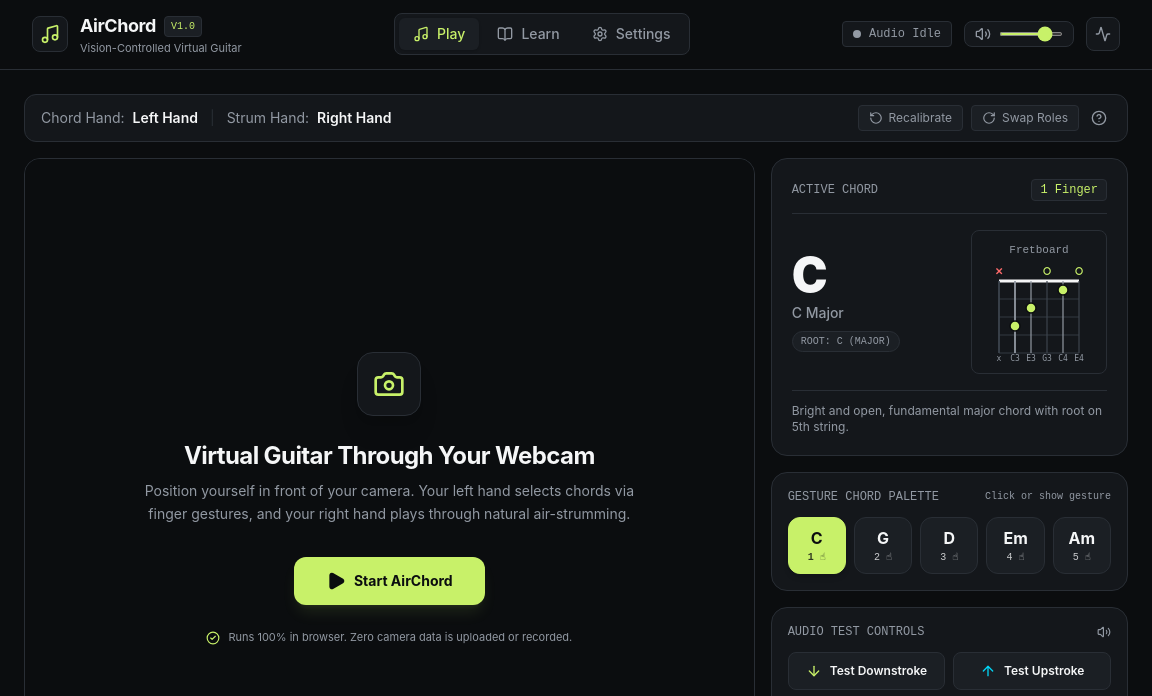
Test: AirChord UI Component Suite › renders tracking sensitivity slider in Settings and updates value
Note: Navigate to Settings
Click the button "Settings" at [631, 34], box top-left (578, 18), bottom-right (684, 50)
(page scrolled)
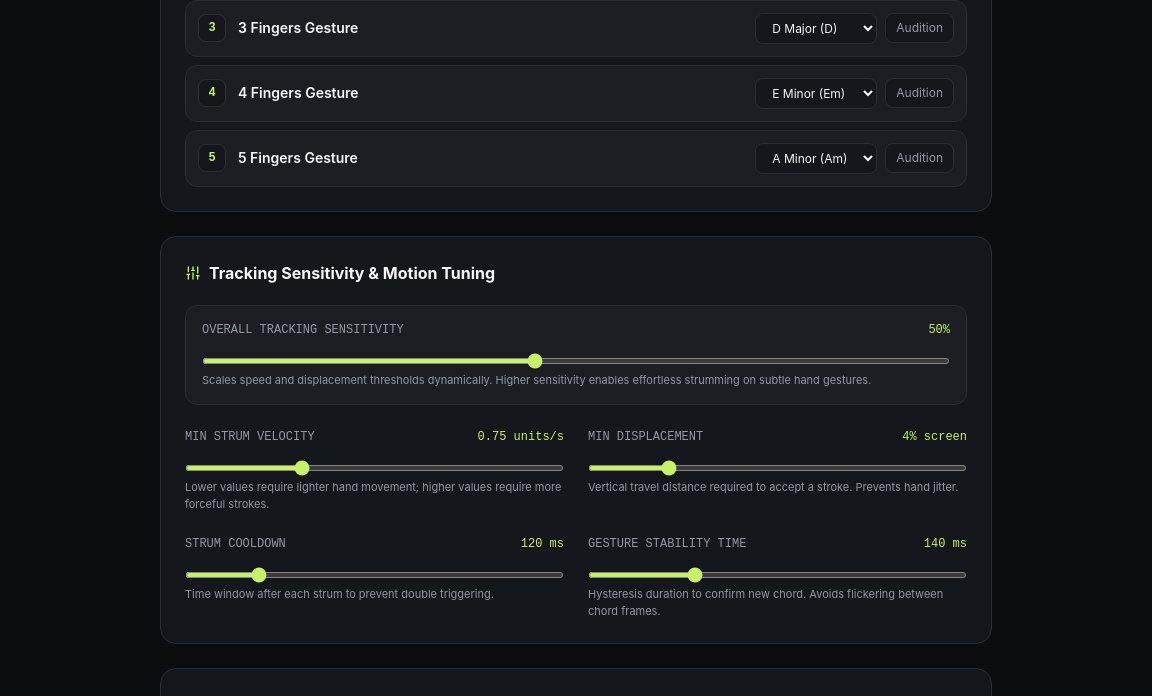
Expected: the slider named "Overall tracking sensitivity" is shown
Set the slider named "Overall tracking sensitivity" to "0.75" at [739, 360], box top-left (202, 358), bottom-right (950, 364)
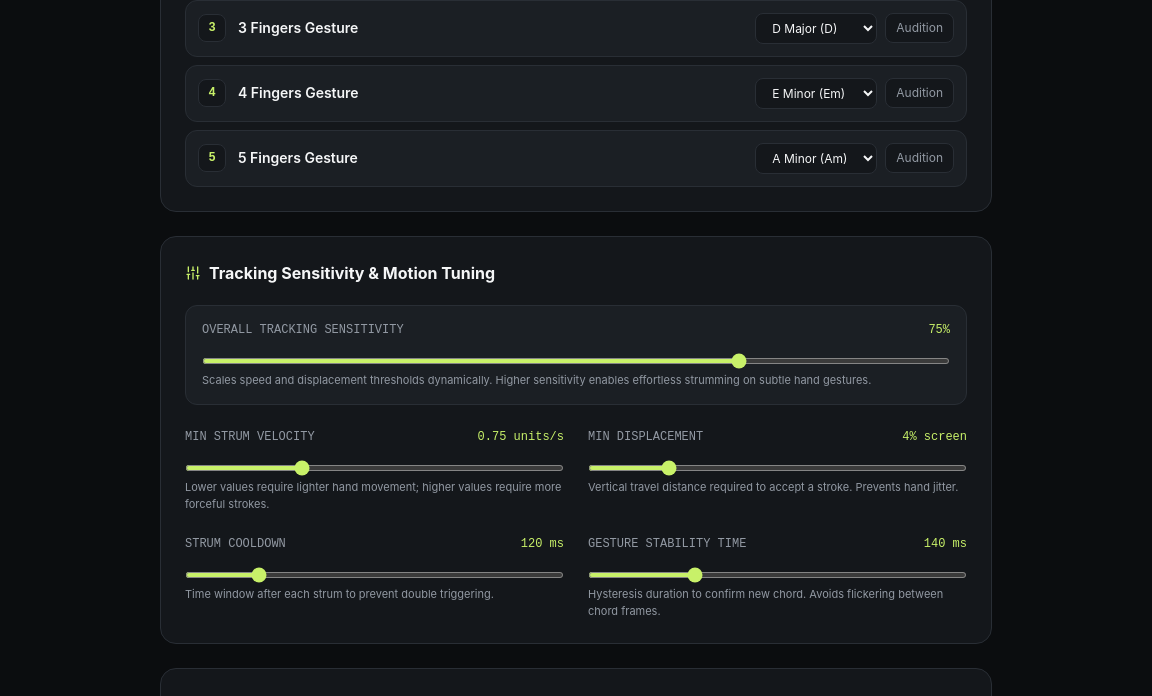
Expected: the text "75%" is shown, top-left (928, 322), bottom-right (950, 338)
